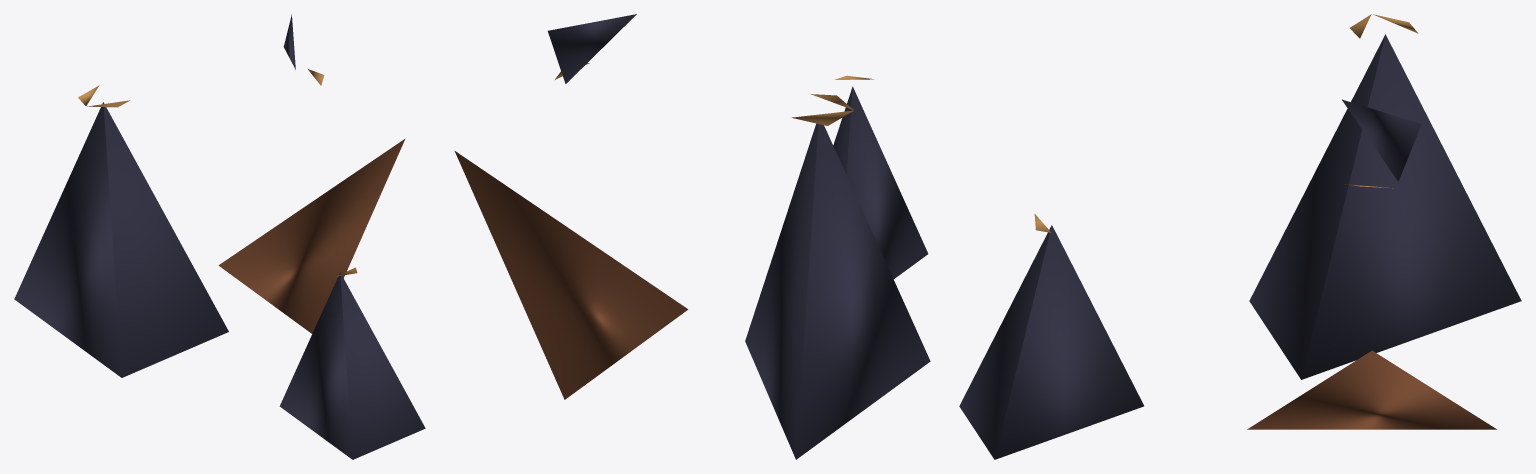
Rendered from prop.trash-bags.lod2.glb.
3 renders of one model, left to right at view 1: azimuth 30°, elevation 25°; view 2: azimuth 150°, elevation 25°; view 3: azimuth 270°, elevation 25°, orthographic. The views are drawn at different scales.
Bounding box in the file's own units: 0.7278 × 0.5911 × 0.843.
